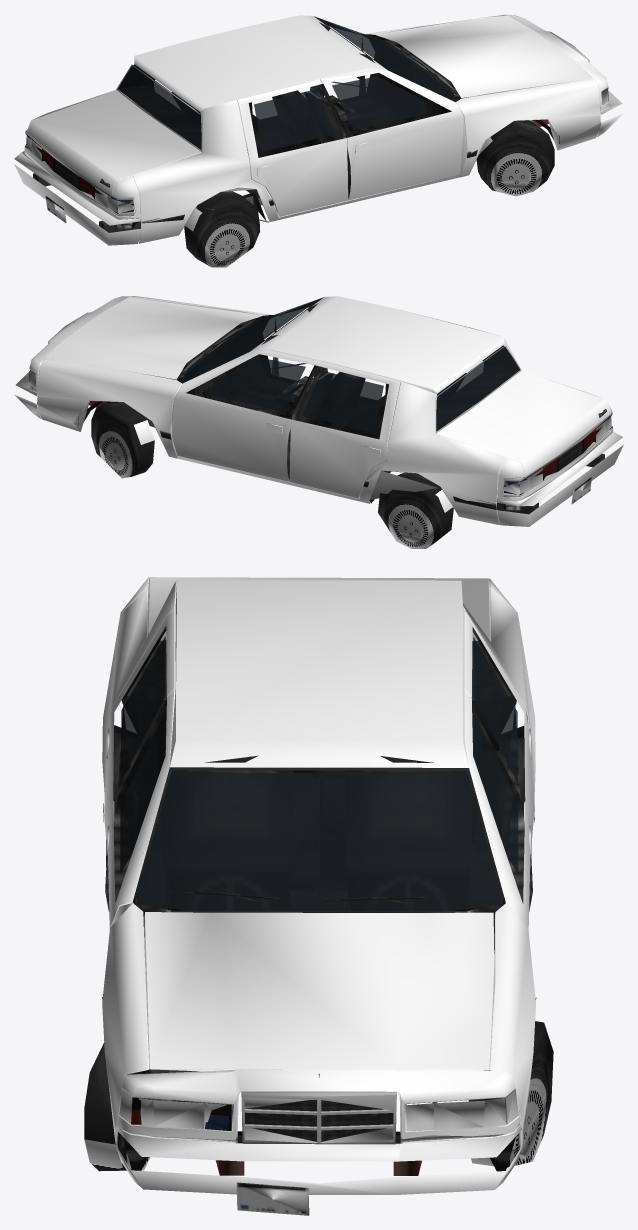
The model's file is car_sedan.glb.
3 views of the same model, one above another, from view 1: azimuth 30°, elevation 25°; view 2: azimuth 150°, elevation 25°; view 3: azimuth 270°, elevation 25° (orthographic). The views are drawn at different scales.
Visible parts, largest first — view 1: paint, body, glass; view 2: paint, body, glass; view 3: paint, body, glass.
Part boxes in pixels (bbox=[...]): paint: bbox=[14, 14, 623, 245]; body: bbox=[24, 16, 608, 267]; glass: bbox=[118, 17, 454, 151]; paint: bbox=[15, 296, 623, 526]; body: bbox=[29, 297, 613, 548]; glass: bbox=[183, 298, 519, 433]; paint: bbox=[102, 577, 535, 1194]; body: bbox=[84, 626, 553, 1215]; glass: bbox=[120, 636, 518, 911].
Size of the model in its own units: 5.1 by 1.37 by 1.93.
2 materials, 1 textured.
